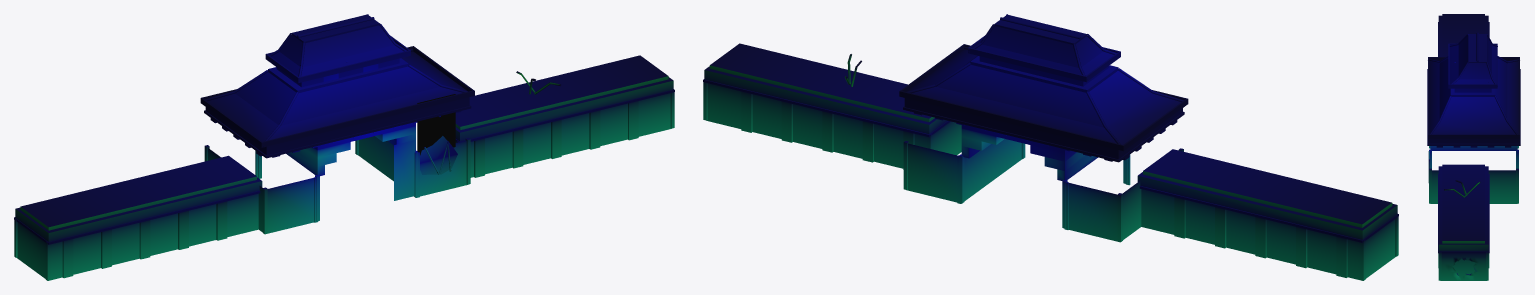
Rendered from l_palacegate_damaged.glb.
The picture shows the model from 3 angles, left to right: view 1: azimuth 30°, elevation 25°; view 2: azimuth 150°, elevation 25°; view 3: azimuth 270°, elevation 25°; orthographic projection. The views are drawn at different scales.
Visible parts, largest first — view 1: lod0; view 2: lod0; view 3: lod0.
Part boxes in pixels (box(x1,y1,x2,y2)): lod0: box(14, 14, 674, 280); lod0: box(703, 14, 1398, 280); lod0: box(1427, 14, 1520, 280).
Size of what is drawn, in the model's own units: 58.7 by 14.34 by 10.1.
